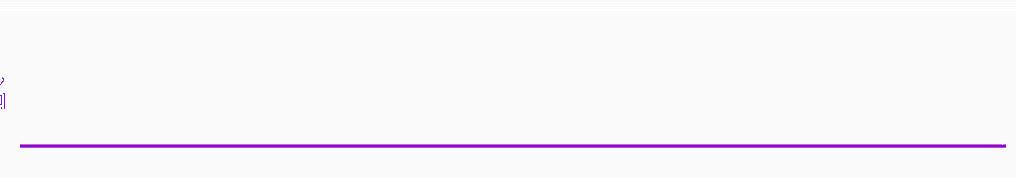EditText: (1, 1, 1015, 177)
